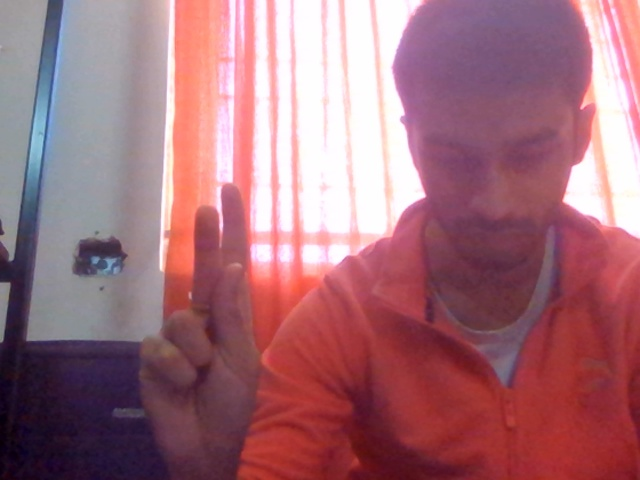K: (112, 163, 347, 480)
